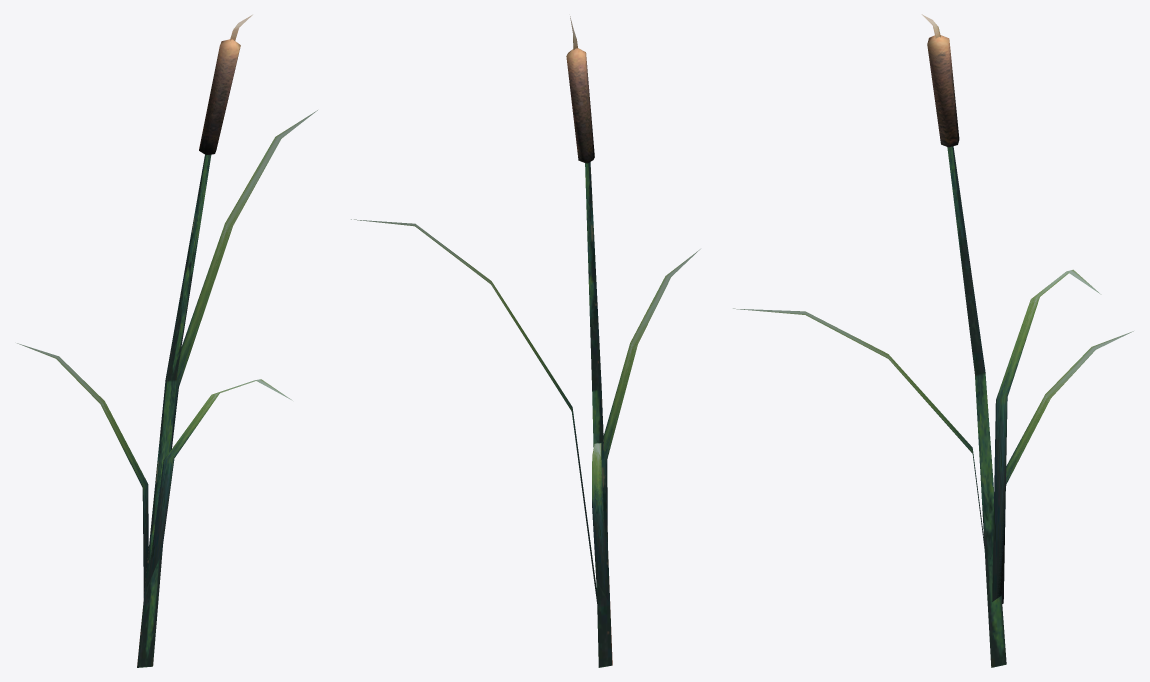
Rendered from swmp_shor_cattail_blue_lg_l0.fbx.
The picture shows the model from 3 angles, left to right: view 1: azimuth 30°, elevation 25°; view 2: azimuth 150°, elevation 25°; view 3: azimuth 270°, elevation 25°; orthographic projection. The views are drawn at different scales.
Parts seen in each view (by area): view 1: mesh_node; view 2: mesh_node; view 3: mesh_node.
Part boxes in pixels (box(x1,y1,x2,y2)): mesh_node: box(17, 14, 317, 667); mesh_node: box(351, 16, 700, 667); mesh_node: box(733, 14, 1133, 667).
Bounding box in the file's own units: 1.31 × 2.85 × 1.53.
Materials: 1 (1 with a texture image).
